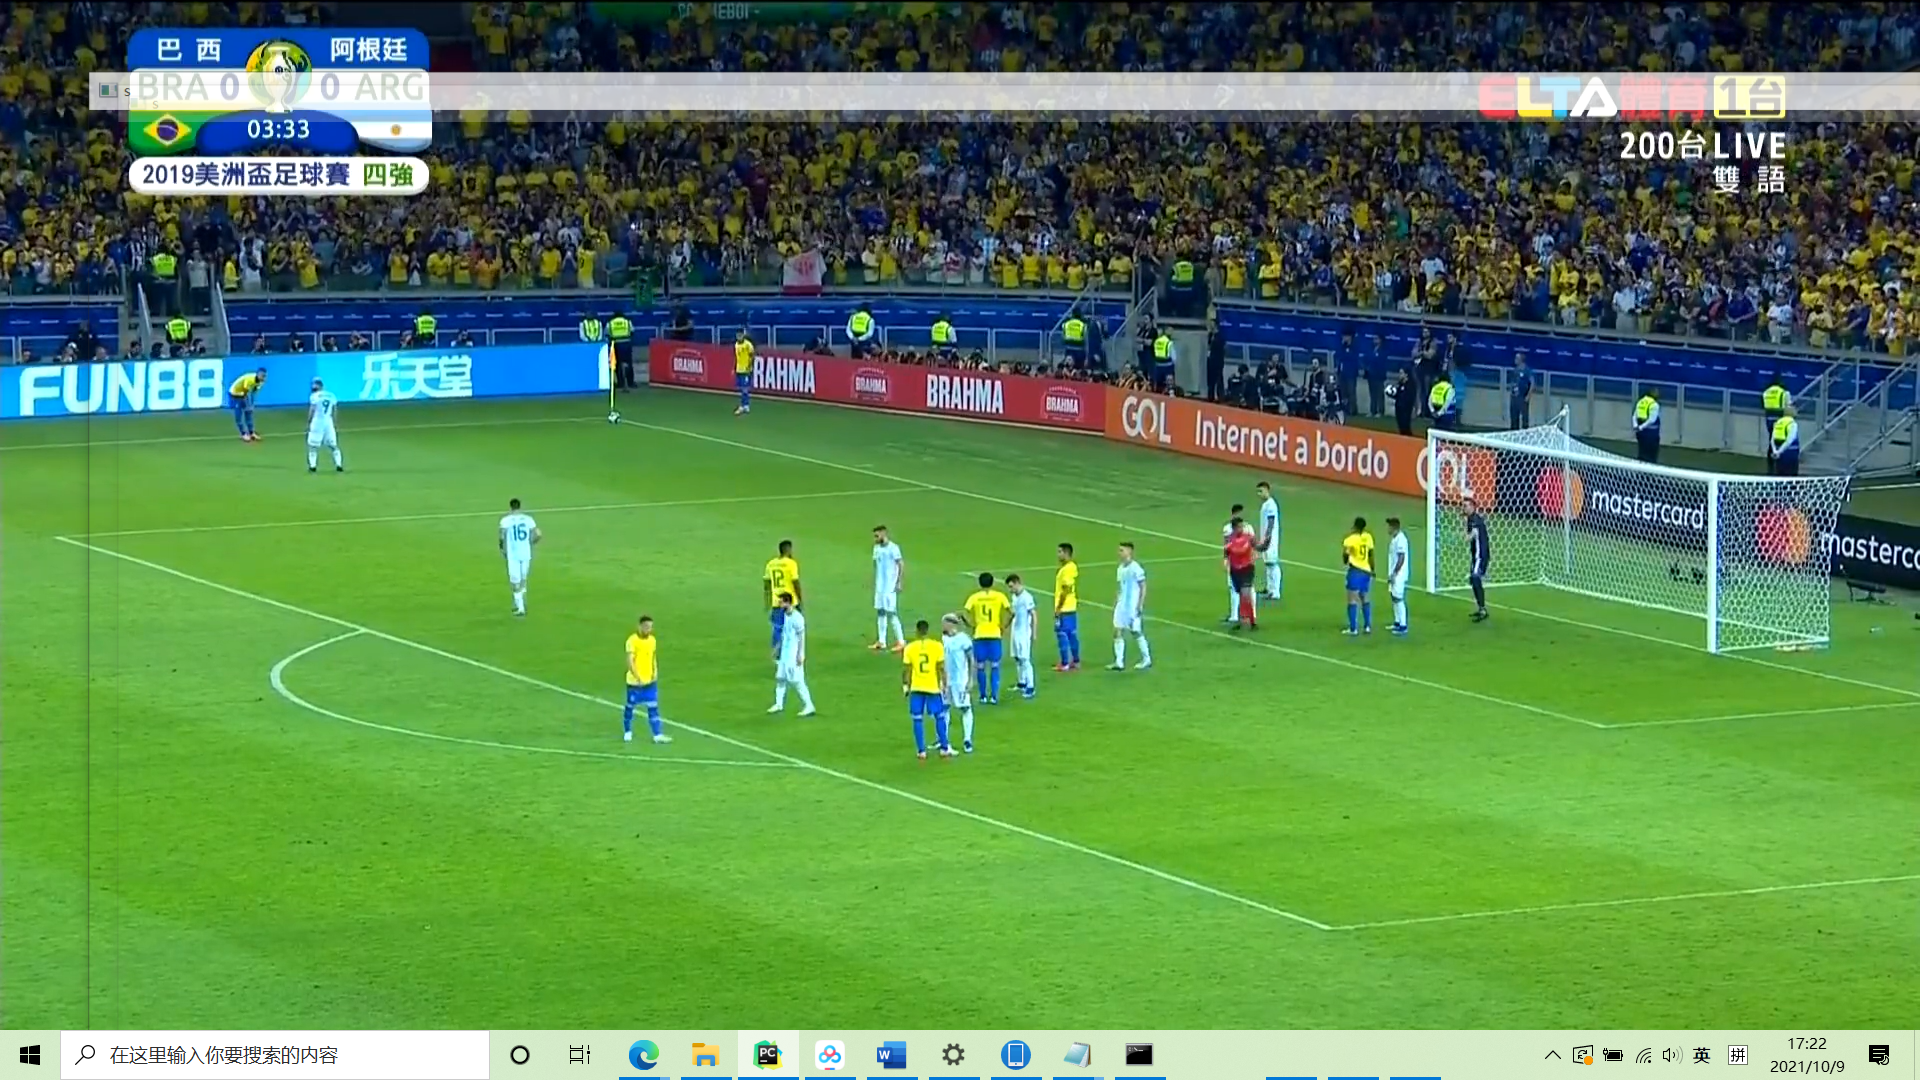ft: (605, 410, 621, 425)
